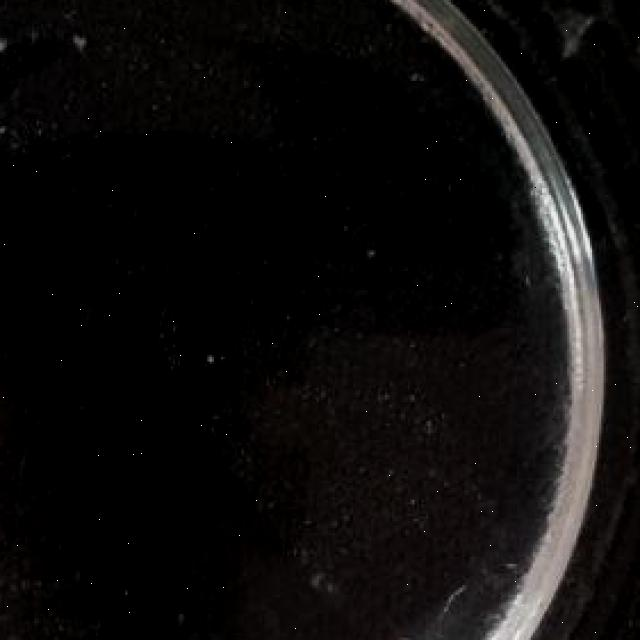Microplastic: (567, 0, 640, 117)
